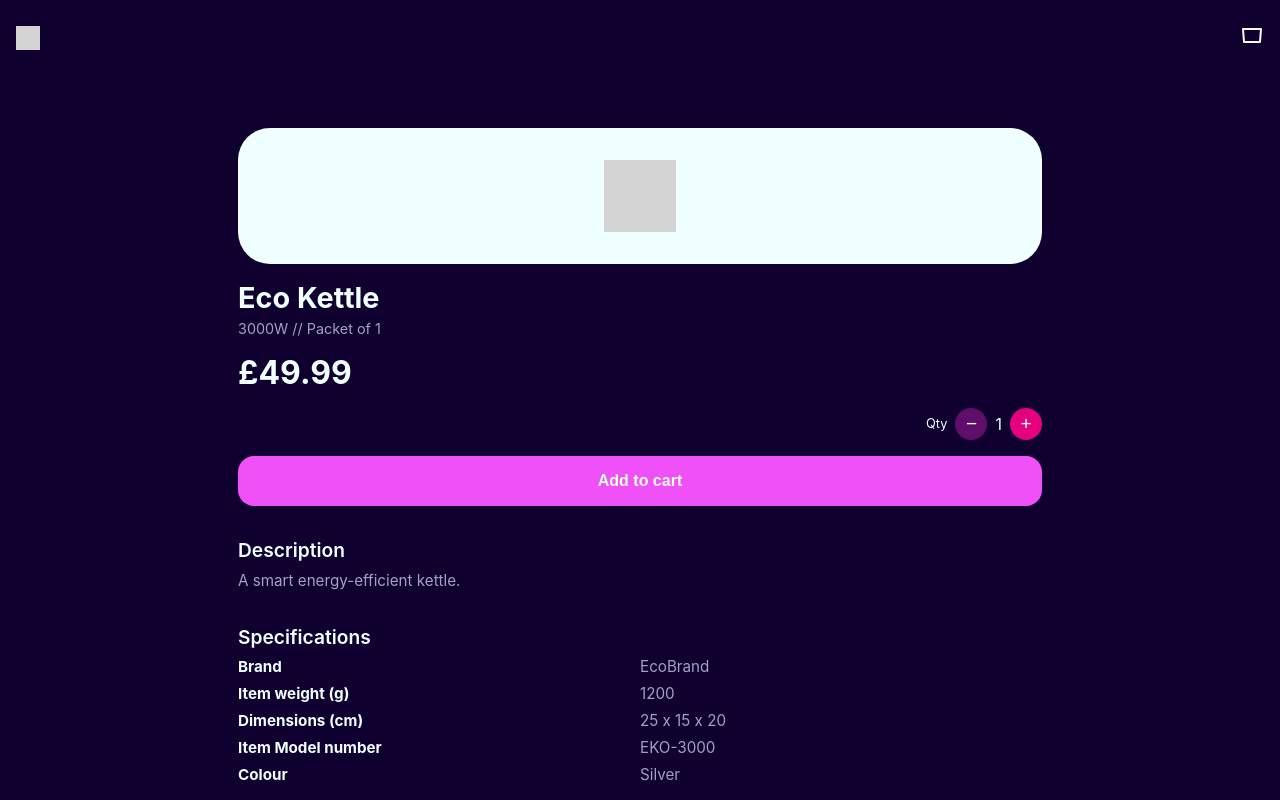
Scenario: ProductPage › renders product details and allows quantity adjustment
Expected: the text "Eco Kettle" is shown, x1=238 y1=280 x2=380 y2=315
Expected: the text "3000W // Packet of 1" is shown, x1=238 y1=320 x2=381 y2=337
What coordinates should you click on to do the following:
click the button "+"
I would click on:
 (1026, 424)
Its box is x1=1010 y1=408 x2=1042 y2=440.
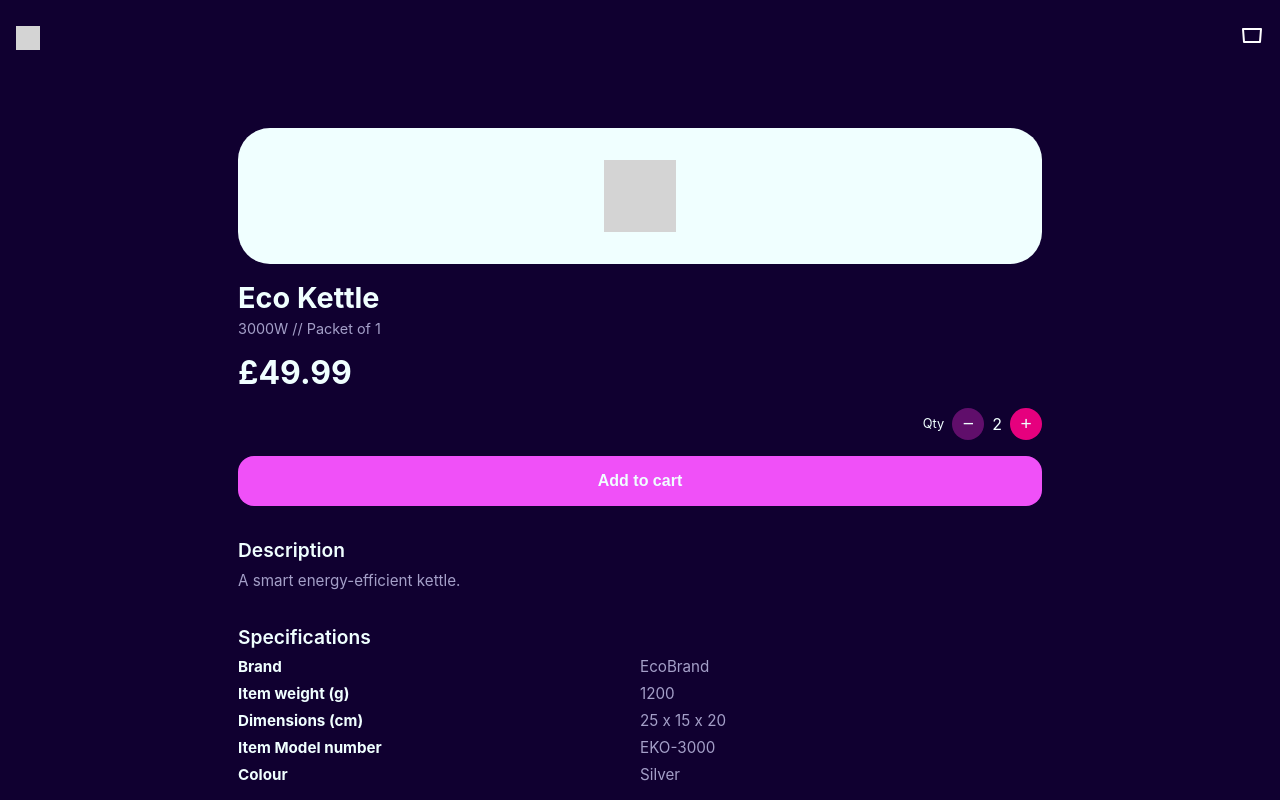
Expected: the text "2" is shown, x1=992 y1=414 x2=1002 y2=434
What coordinates should you click on to do the following:
click the button "−"
I would click on:
 (968, 424)
Its box is x1=952 y1=408 x2=984 y2=440.
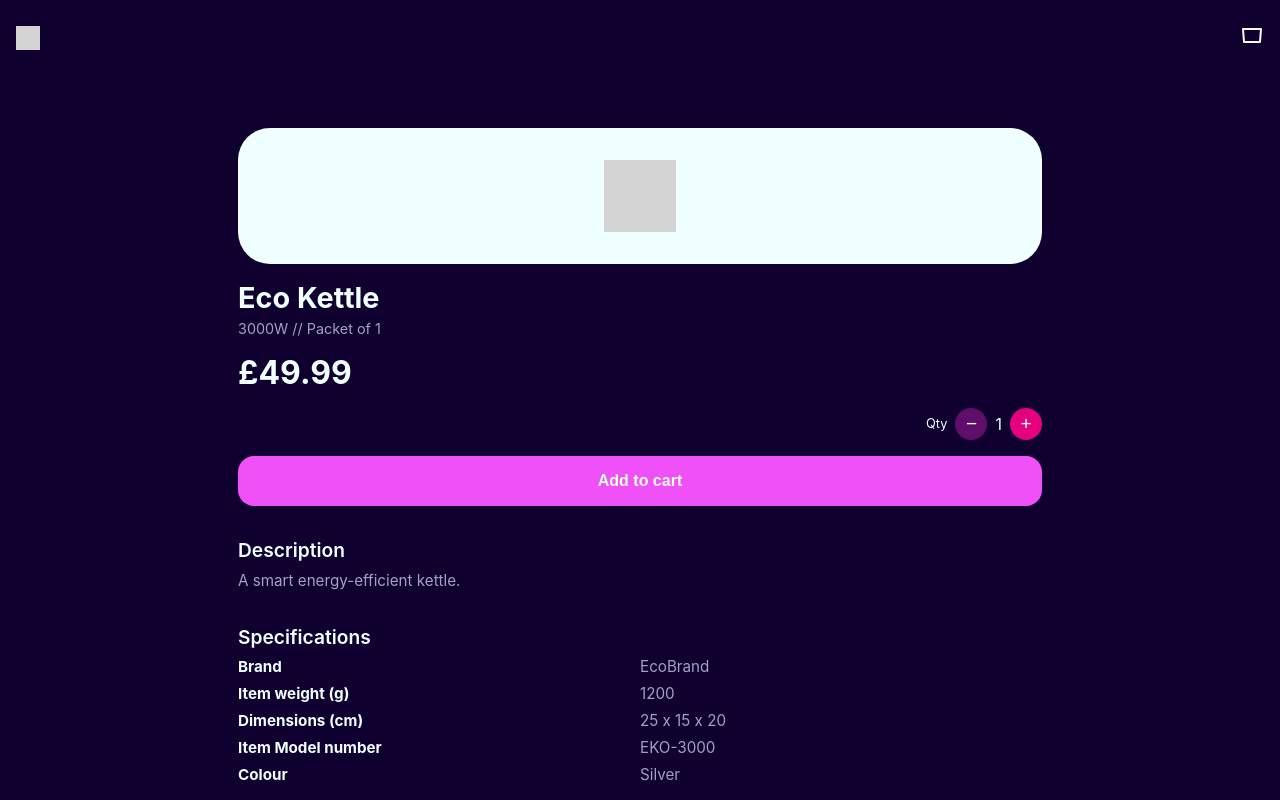
Expected: the text "1" is shown, x1=996 y1=414 x2=1002 y2=434
